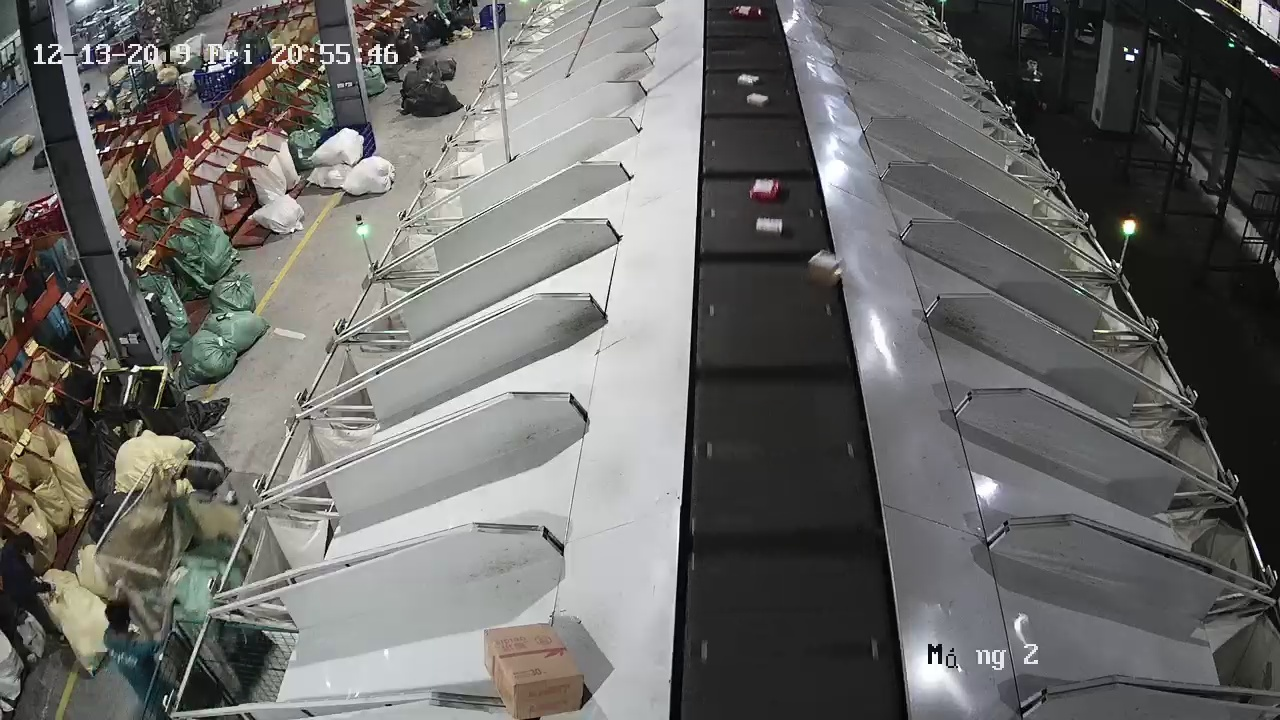parcel: (807, 250, 844, 288)
